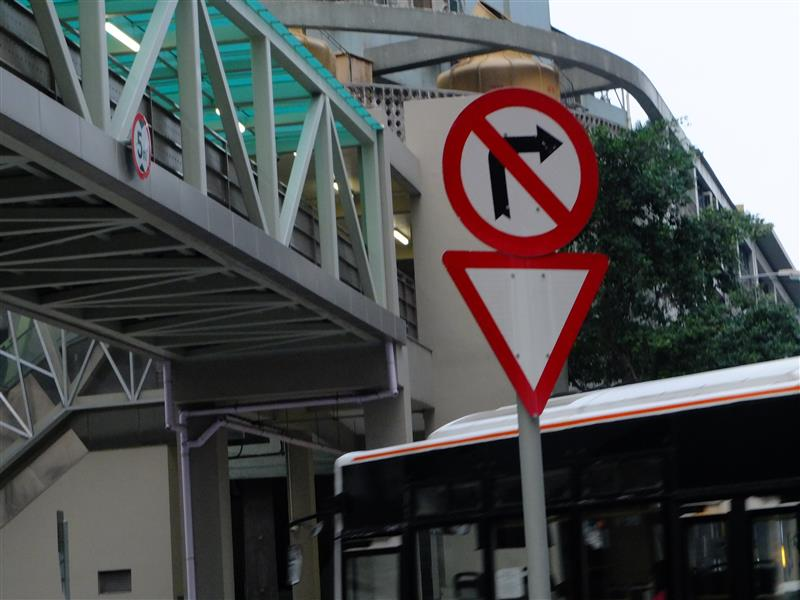yield: (411, 234, 627, 430)
